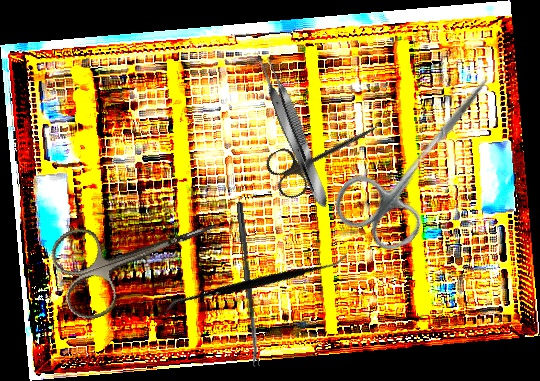Iris Scissors: (325, 48, 520, 264), (45, 183, 235, 326), (262, 103, 388, 203)
Spatula Surgical: (163, 190, 349, 379)
Surgical Spoon: (235, 202, 260, 367)
Tissue Forceps: (253, 54, 335, 212)
